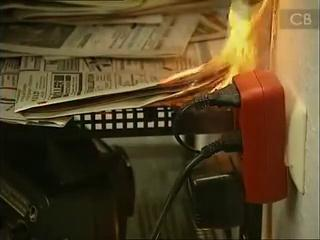Fire: (138, 1, 262, 119)
